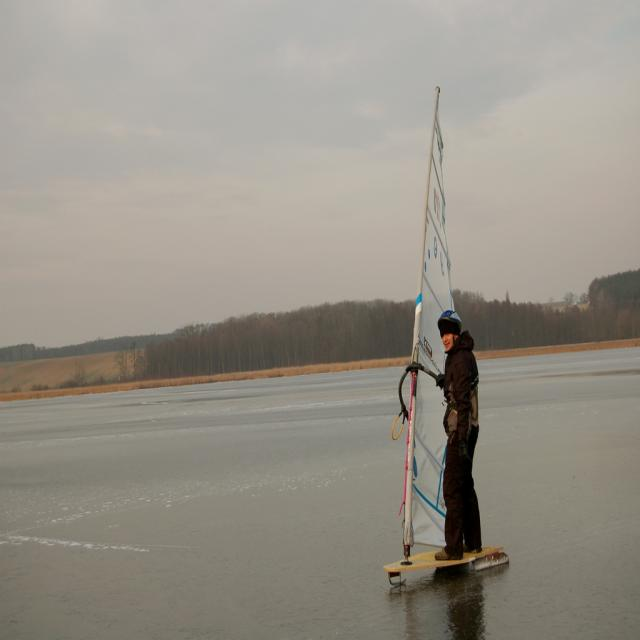Person: (434, 310, 483, 560)
